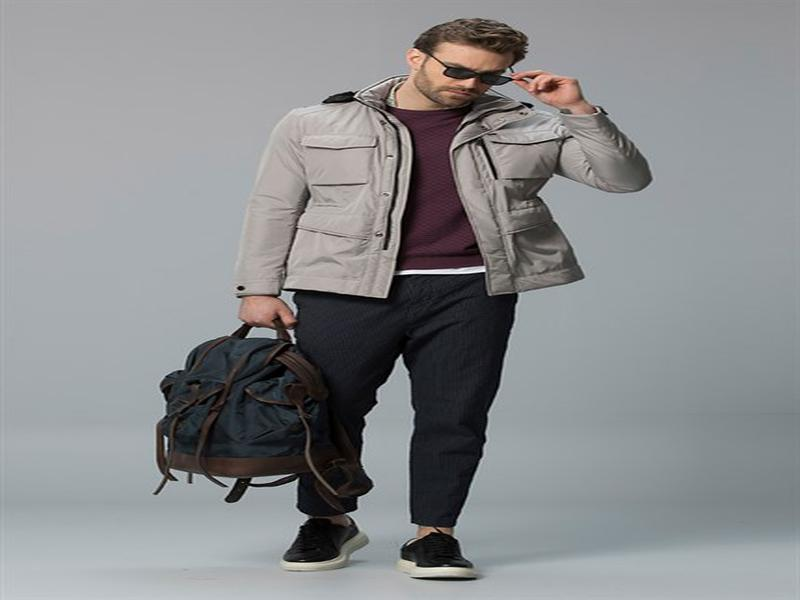human: (241, 18, 651, 576)
